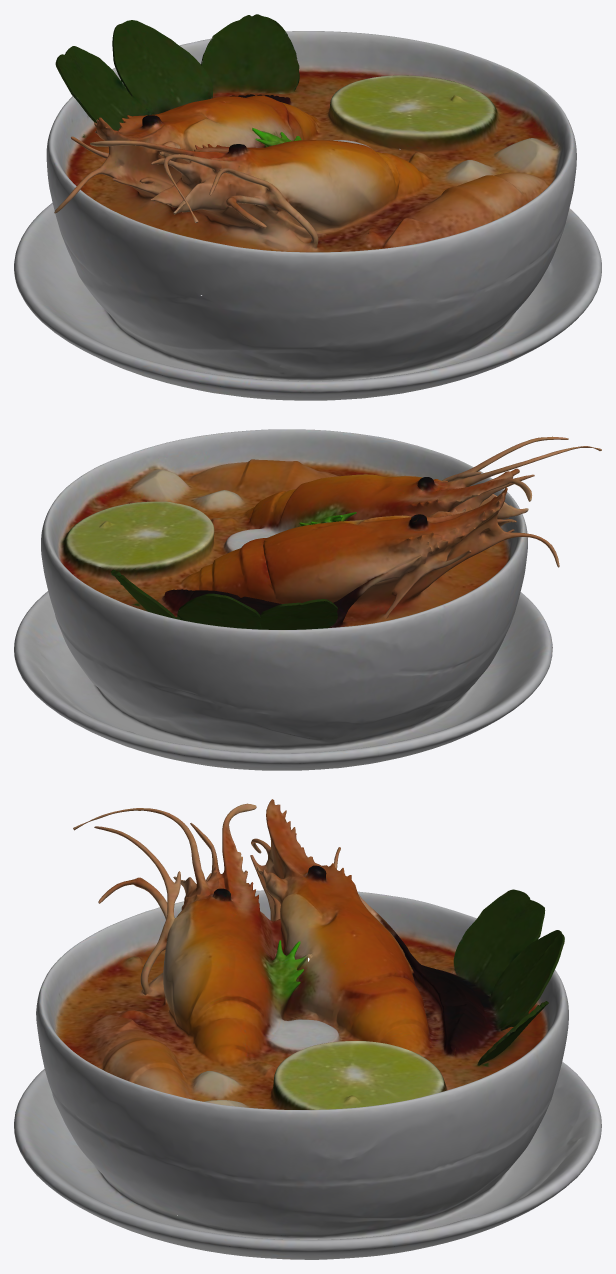
Rendered from tomyumarcore.glb.
3 renders of one model, top to bottom at view 1: azimuth 30°, elevation 25°; view 2: azimuth 150°, elevation 25°; view 3: azimuth 270°, elevation 25°, orthographic. The views are drawn at different scales.
Parts seen in each view (by area): view 1: tripo_node_40822c1f-039d-4023-a027-823fe1b94867; view 2: tripo_node_40822c1f-039d-4023-a027-823fe1b94867; view 3: tripo_node_40822c1f-039d-4023-a027-823fe1b94867.
Boxes of the visible parts, x1,y1,x2,y2 form: tripo_node_40822c1f-039d-4023-a027-823fe1b94867: (14,14,601,400); tripo_node_40822c1f-039d-4023-a027-823fe1b94867: (14,429,601,770); tripo_node_40822c1f-039d-4023-a027-823fe1b94867: (14,799,601,1259).
Size of the model in its own units: 0.9999 by 0.4664 by 0.9613.
Materials: 1 (1 with a texture image).
